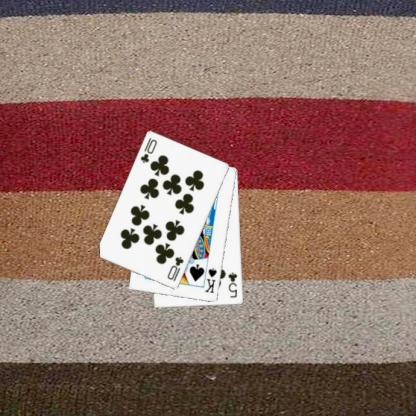10C: (138, 135, 158, 165), (165, 254, 185, 283)
5C: (225, 270, 239, 299)
KS: (203, 265, 218, 295)
